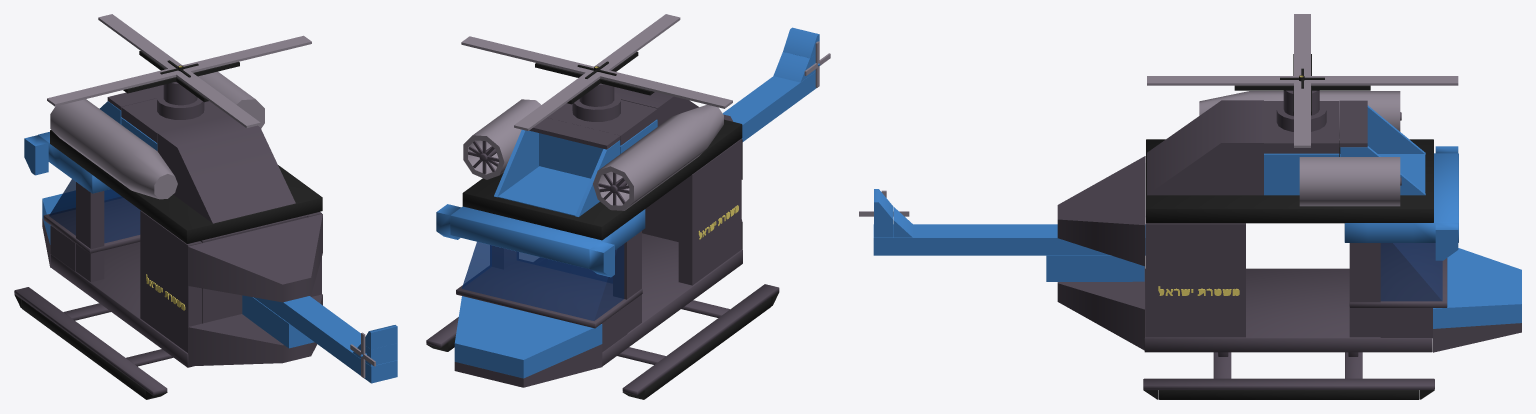
The model's file is Helicopter.fbx.
3 views of the same model, side by side, from view 1: azimuth 30°, elevation 25°; view 2: azimuth 150°, elevation 25°; view 3: azimuth 270°, elevation 25° (orthographic). The views are drawn at different scales.
Visible parts, largest first — view 1: Null_1; view 2: Null_1; view 3: Null_1.
Part boxes in pixels (x1,y1,x2,y2): Null_1: [14, 14, 397, 399]; Null_1: [426, 14, 830, 399]; Null_1: [859, 14, 1521, 399].
Size of the model in its own units: 619 by 595 by 1319.
